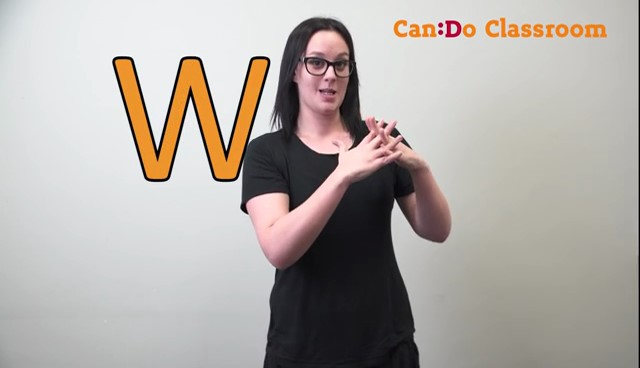W: (320, 107, 419, 179)
